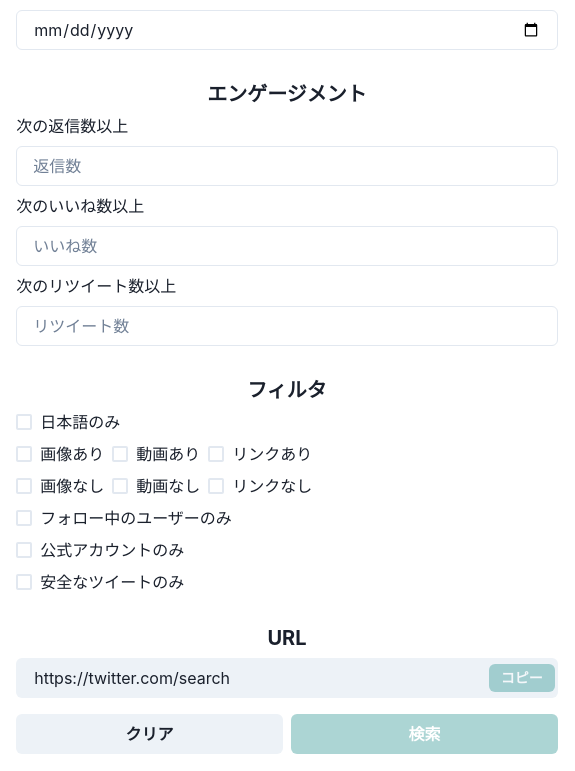
Test: フィルタ検索 › 動画あり
(page scrolled)
Check the checkbox labelled "動画あり" at {"x": 156, "y": 454}, box left=112, top=442, right=200, bottom=466
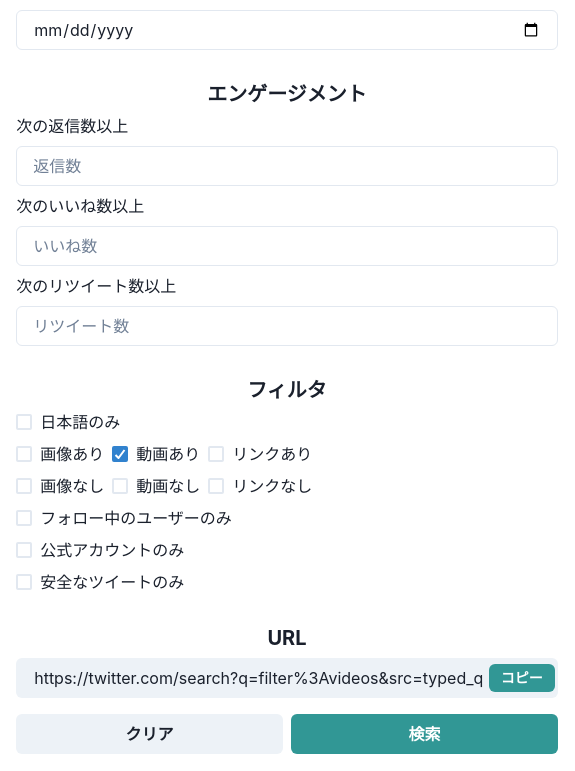
Now the field with test id "url" holds "https://twitter.com/search?q=filter%3Avideos&src=typed_query", box left=16, top=658, right=558, bottom=698
